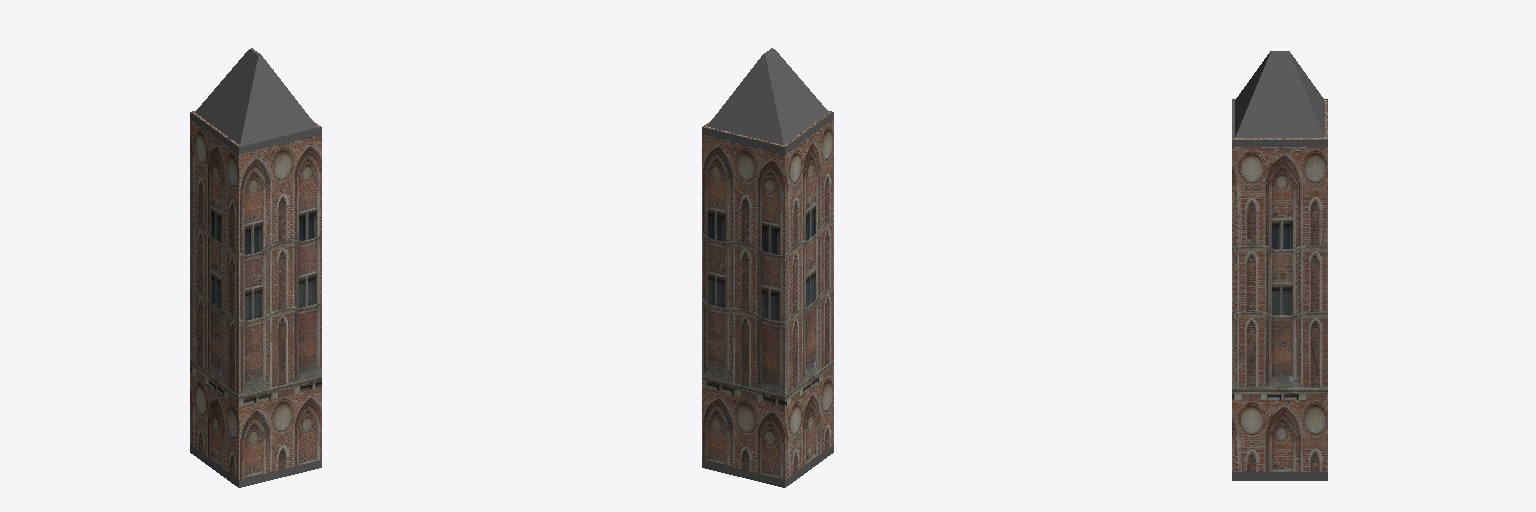
The picture shows the model from 3 angles: view 1: azimuth 30°, elevation 25°; view 2: azimuth 150°, elevation 25°; view 3: azimuth 270°, elevation 25°; orthographic projection.
Visible parts, largest first — view 1: Cube.006_Cube.007; view 2: Cube.006_Cube.007; view 3: Cube.006_Cube.007.
Part boxes in pixels (bbox=[...]): Cube.006_Cube.007: bbox=[190, 48, 321, 487]; Cube.006_Cube.007: bbox=[702, 48, 833, 487]; Cube.006_Cube.007: bbox=[1232, 51, 1327, 480].
Size of the model in its own units: 1.98 by 9.32 by 2.
Materials: 2 (1 with a texture image).